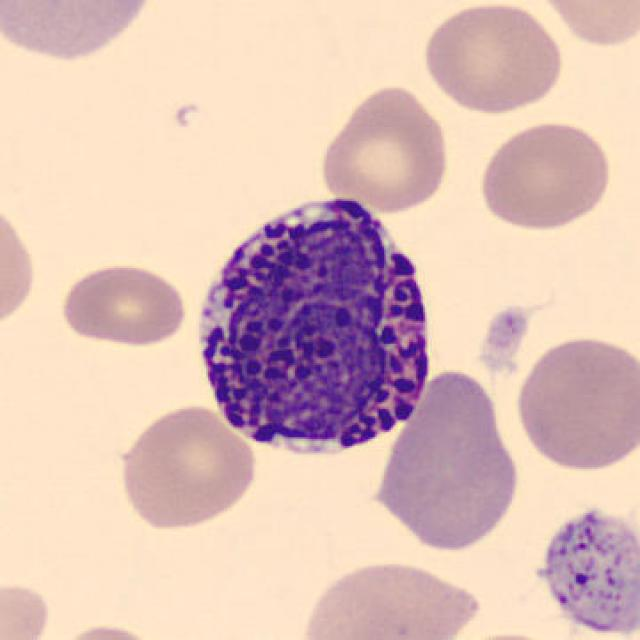Basophil: (183, 182, 448, 476)
Platelets: (526, 502, 640, 638), (476, 303, 530, 372)
RBC: (364, 363, 526, 557), (113, 400, 260, 532), (316, 81, 454, 215), (511, 331, 636, 476), (417, 0, 567, 116), (295, 553, 485, 640), (475, 116, 615, 233), (55, 257, 190, 351), (0, 0, 164, 65), (530, 0, 638, 51), (0, 194, 39, 335), (0, 578, 55, 640), (50, 619, 169, 640), (433, 627, 595, 640)
